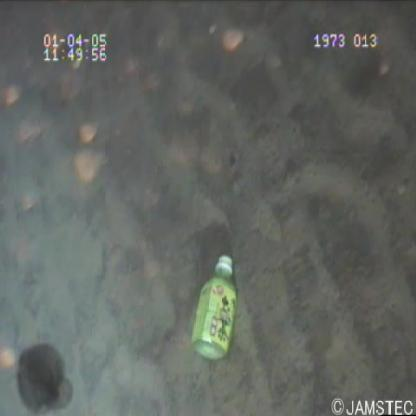Rác: (185, 248, 247, 368)
